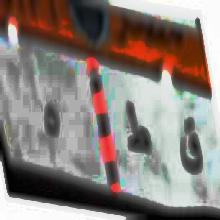5: (42, 98, 62, 146)
Taa: (125, 97, 150, 157)
qaaf: (178, 110, 206, 177)
